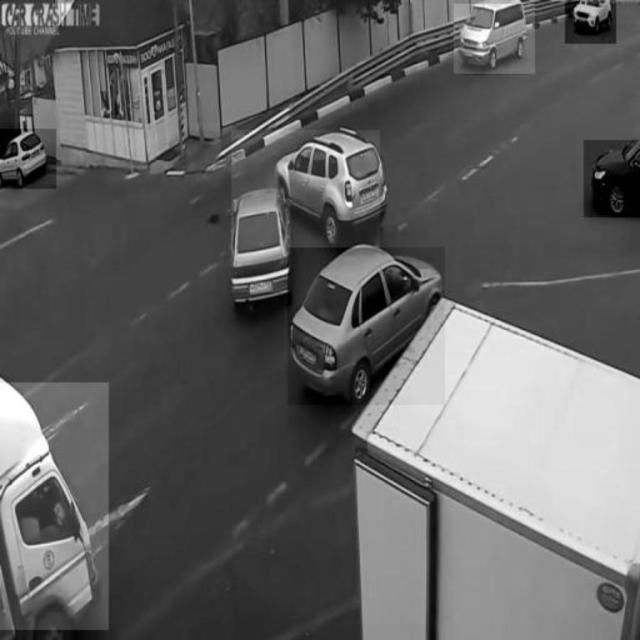accident: (232, 130, 380, 292)
vehicle: (0, 383, 108, 631), (288, 248, 445, 405), (454, 4, 535, 74), (584, 140, 640, 217), (1, 130, 57, 190), (566, 0, 617, 44)
